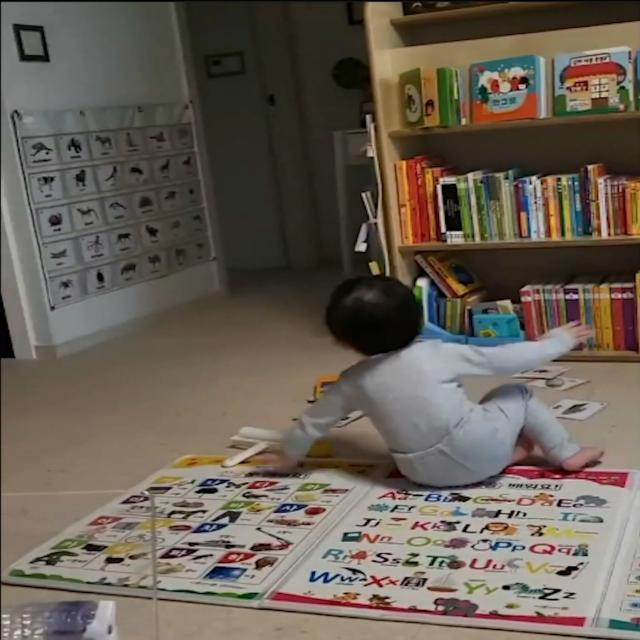child: (239, 279, 607, 488)
